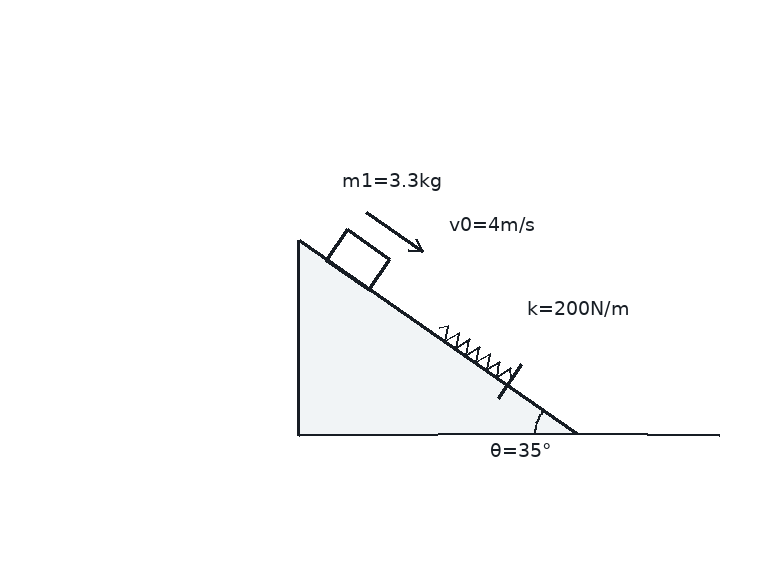block: (324, 227, 391, 291)
ramp: (296, 238, 577, 436)
spring: (437, 324, 513, 380)
